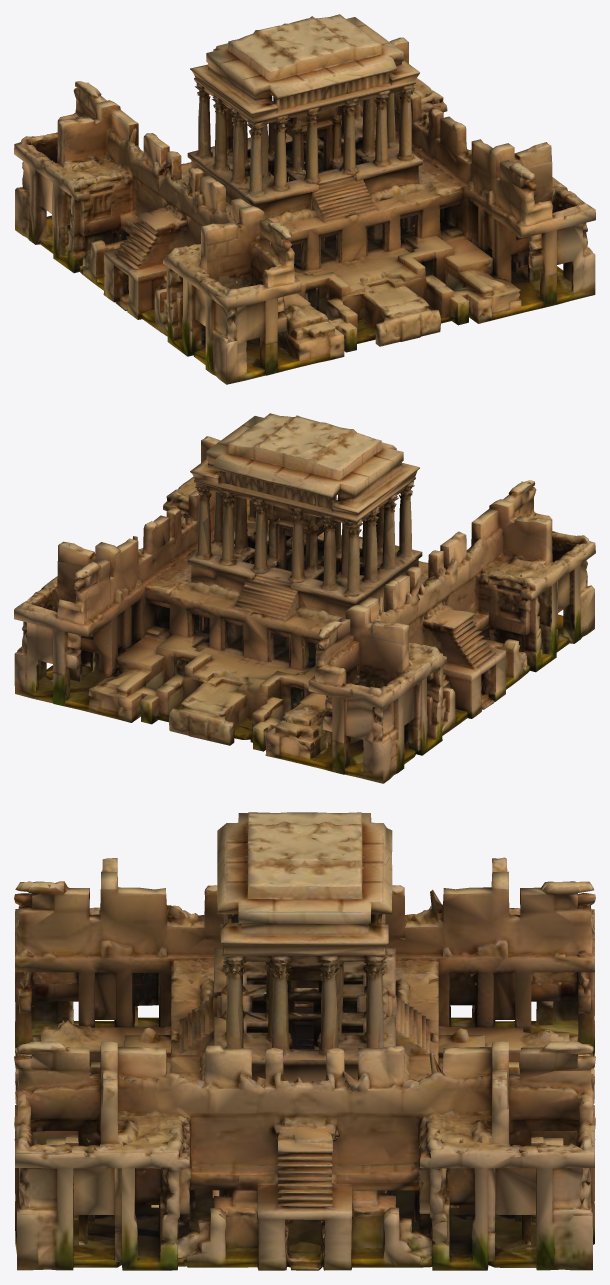
File: A_very_large_ancient_.glb
The picture shows the model from 3 angles, top to bottom: view 1: azimuth 30°, elevation 25°; view 2: azimuth 150°, elevation 25°; view 3: azimuth 270°, elevation 25°; orthographic projection. The views are drawn at different scales.
Visible parts, largest first — view 1: A_very_large_ancient_; view 2: A_very_large_ancient_; view 3: A_very_large_ancient_.
Boxes of the visible parts, <box> form: A_very_large_ancient_: <box>14,14,595,384</box>; A_very_large_ancient_: <box>14,413,595,783</box>; A_very_large_ancient_: <box>14,812,595,1270</box>.
Size of the model in its own units: 1.9 by 1.12 by 1.9.
1 material, 1 textured.
